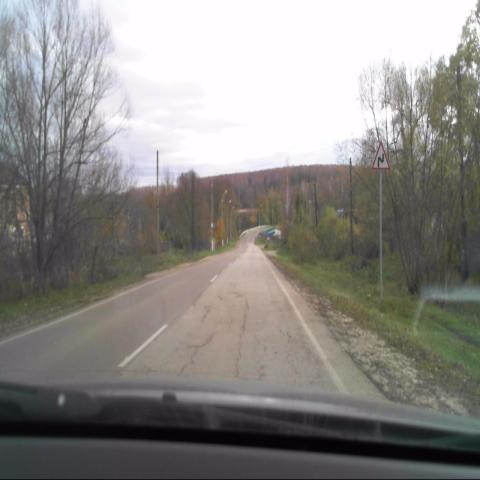1_12: (372, 141, 388, 170)
